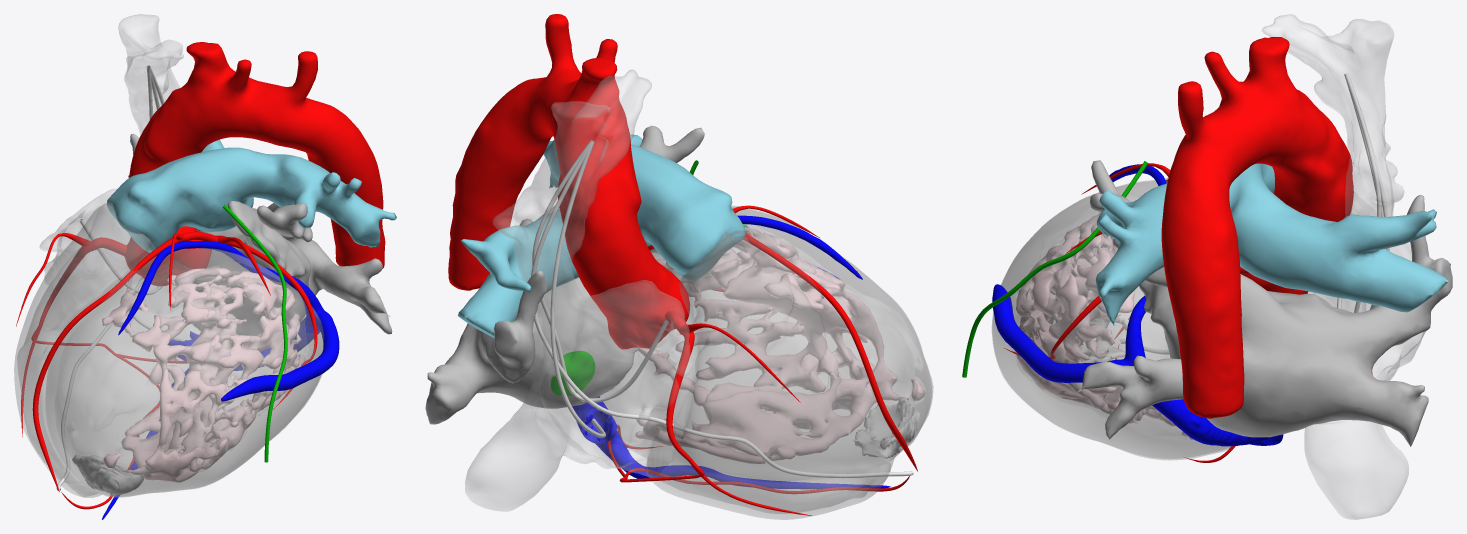
File: inHEART_8_ANATOMY.glb
3 views of the same model, side by side, from view 1: azimuth 30°, elevation 25°; view 2: azimuth 150°, elevation 25°; view 3: azimuth 270°, elevation 25° (orthographic). The views are drawn at different scales.
Visible parts, largest first — view 1: EPI (CT) - Left and Right Epicardium - inHEART, LV EPI (CT) - Left Ventricular Epicardium - inHEART, LV ENDO (CT) - Left Ventricular Endocardium - inHEART, TRABEC (CT) - LV Trabeculations and PAPs - inHEART, AO (CT) - Aorta Arch - inHEART, PAT (CT) - Pulmonary Artery Trunk - inHEART, LA ENDO (CT) - Left Atrial Endocardium with Pulmonary Veins , RV ENDO (CT) - Right Ventricular Endocardium - inHEART, RA ENDO (CT) - Right Atrial Endocardium - inHEART, CS (CT) - Coronary Sinus - inHEART, LCA (CT) - Left Coronary Artery - inHEART, RCA (CT) - Right Coronary Artery - inHEART (+3 smaller); view 2: EPI (CT) - Left and Right Epicardium - inHEART, RA ENDO (CT) - Right Atrial Endocardium - inHEART, RV ENDO (CT) - Right Ventricular Endocardium - inHEART, AO (CT) - Aorta Arch - inHEART, TRABEC (CT) - LV Trabeculations and PAPs - inHEART, PAT (CT) - Pulmonary Artery Trunk - inHEART, LA ENDO (CT) - Left Atrial Endocardium with Pulmonary Veins , LV EPI (CT) - Left Ventricular Epicardium - inHEART, LV ENDO (CT) - Left Ventricular Endocardium - inHEART, LEADS (CT) - ICD Leads - inHEART, CS (CT) - Coronary Sinus - inHEART, RCA (CT) - Right Coronary Artery - inHEART (+3 smaller); view 3: AO (CT) - Aorta Arch - inHEART, LA ENDO (CT) - Left Atrial Endocardium with Pulmonary Veins , PAT (CT) - Pulmonary Artery Trunk - inHEART, LV EPI (CT) - Left Ventricular Epicardium - inHEART, EPI (CT) - Left and Right Epicardium - inHEART, RA ENDO (CT) - Right Atrial Endocardium - inHEART, TRABEC (CT) - LV Trabeculations and PAPs - inHEART, LV ENDO (CT) - Left Ventricular Endocardium - inHEART, CS (CT) - Coronary Sinus - inHEART, LEADS (CT) - ICD Leads - inHEART, PHRENIC LEFT (CT) - Left Pericardiaco-Phrenic Vessels - inHE, LCA (CT) - Left Coronary Artery - inHEART (+1 smaller).
Part boxes in pixels (x1=…): EPI (CT) - Left and Right Epicardium - inHEART: x1=14, y1=204, x2=323, y2=497; LV EPI (CT) - Left Ventricular Epicardium - inHEART: x1=45, y1=248, x2=323, y2=497; LV ENDO (CT) - Left Ventricular Endocardium - inHEART: x1=54, y1=265, x2=308, y2=482; TRABEC (CT) - LV Trabeculations and PAPs - inHEART: x1=102, y1=267, x2=305, y2=482; AO (CT) - Aorta Arch - inHEART: x1=124, y1=42, x2=385, y2=285; PAT (CT) - Pulmonary Artery Trunk - inHEART: x1=107, y1=137, x2=396, y2=252; LA ENDO (CT) - Left Atrial Endocardium with Pulmonary Veins : x1=128, y1=134, x2=392, y2=348; RV ENDO (CT) - Right Ventricular Endocardium - inHEART: x1=17, y1=202, x2=151, y2=496; RA ENDO (CT) - Right Atrial Endocardium - inHEART: x1=39, y1=14, x2=183, y2=284; CS (CT) - Coronary Sinus - inHEART: x1=102, y1=241, x2=339, y2=519; LCA (CT) - Left Coronary Artery - inHEART: x1=32, y1=231, x2=317, y2=492; RCA (CT) - Right Coronary Artery - inHEART: x1=16, y1=233, x2=223, y2=509; EPI (CT) - Left and Right Epicardium - inHEART: x1=646, y1=207, x2=931, y2=519; RA ENDO (CT) - Right Atrial Endocardium - inHEART: x1=465, y1=69, x2=697, y2=511; RV ENDO (CT) - Right Ventricular Endocardium - inHEART: x1=646, y1=232, x2=890, y2=513; AO (CT) - Aorta Arch - inHEART: x1=448, y1=14, x2=690, y2=349; TRABEC (CT) - LV Trabeculations and PAPs - inHEART: x1=636, y1=228, x2=924, y2=463; PAT (CT) - Pulmonary Artery Trunk - inHEART: x1=458, y1=134, x2=745, y2=337; LA ENDO (CT) - Left Atrial Endocardium with Pulmonary Veins : x1=425, y1=125, x2=704, y2=424; LV EPI (CT) - Left Ventricular Epicardium - inHEART: x1=624, y1=206, x2=933, y2=460; LV ENDO (CT) - Left Ventricular Endocardium - inHEART: x1=638, y1=224, x2=925, y2=449; LEADS (CT) - ICD Leads - inHEART: x1=531, y1=140, x2=913, y2=478; CS (CT) - Coronary Sinus - inHEART: x1=572, y1=215, x2=890, y2=488; RCA (CT) - Right Coronary Artery - inHEART: x1=607, y1=310, x2=909, y2=515; AO (CT) - Aorta Arch - inHEART: x1=1161, y1=37, x2=1353, y2=418; LA ENDO (CT) - Left Atrial Endocardium with Pulmonary Veins : x1=1077, y1=160, x2=1452, y2=446; PAT (CT) - Pulmonary Artery Trunk - inHEART: x1=1095, y1=163, x2=1448, y2=325; LV EPI (CT) - Left Ventricular Epicardium - inHEART: x1=992, y1=180, x2=1230, y2=460; EPI (CT) - Left and Right Epicardium - inHEART: x1=992, y1=177, x2=1365, y2=458; RA ENDO (CT) - Right Atrial Endocardium - inHEART: x1=1262, y1=14, x2=1425, y2=519; TRABEC (CT) - LV Trabeculations and PAPs - inHEART: x1=1015, y1=212, x2=1192, y2=439; LV ENDO (CT) - Left Ventricular Endocardium - inHEART: x1=1013, y1=195, x2=1193, y2=440; CS (CT) - Coronary Sinus - inHEART: x1=992, y1=164, x2=1283, y2=446; LEADS (CT) - ICD Leads - inHEART: x1=1120, y1=73, x2=1389, y2=354; PHRENIC LEFT (CT) - Left Pericardiaco-Phrenic Vessels - inHE: x1=962, y1=161, x2=1148, y2=377; LCA (CT) - Left Coronary Artery - inHEART: x1=1004, y1=163, x2=1249, y2=359.
Size of the model in its own units: 1.08 by 1.06 by 1.04.
